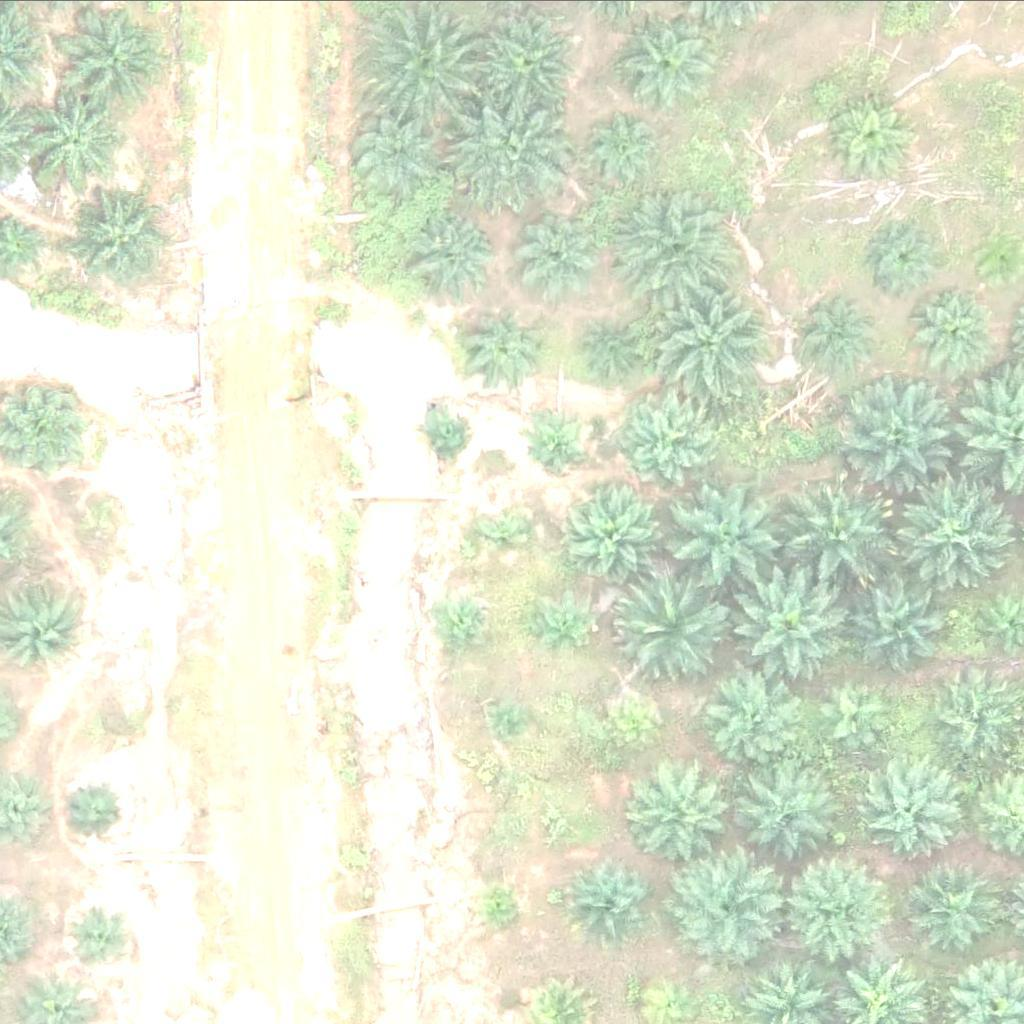Kelapa_Sawit: (626, 187, 740, 300), (649, 282, 762, 395), (673, 483, 786, 596), (906, 470, 1019, 583), (613, 574, 726, 687), (745, 569, 858, 682), (60, 1, 173, 114), (839, 382, 953, 494), (668, 854, 782, 966), (376, 6, 489, 118), (455, 96, 568, 208), (790, 473, 903, 585), (474, 12, 575, 112), (341, 106, 442, 206), (852, 576, 953, 676), (636, 759, 737, 859), (793, 861, 894, 961), (72, 186, 173, 286), (616, 11, 716, 111), (565, 480, 665, 580), (706, 665, 806, 765), (743, 758, 843, 858), (863, 765, 963, 865), (26, 93, 126, 193), (565, 858, 653, 946), (912, 865, 1000, 953), (412, 213, 501, 300), (582, 106, 670, 193), (511, 213, 599, 300), (615, 397, 703, 484), (459, 303, 547, 390), (832, 93, 920, 180), (918, 288, 994, 363), (870, 221, 946, 296), (796, 297, 871, 372), (813, 678, 888, 753), (68, 910, 131, 973), (64, 778, 127, 840), (528, 418, 579, 468), (418, 411, 468, 461), (587, 320, 637, 370), (481, 508, 531, 558), (435, 600, 485, 650), (538, 605, 588, 655), (496, 703, 534, 741), (480, 890, 518, 927), (615, 714, 652, 751), (543, 813, 569, 838)
